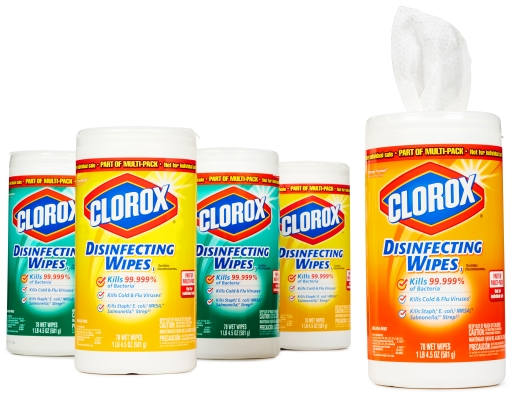Wipes: (359, 107, 507, 391), (72, 122, 202, 379), (191, 144, 283, 363), (3, 145, 82, 362), (277, 153, 356, 357)
